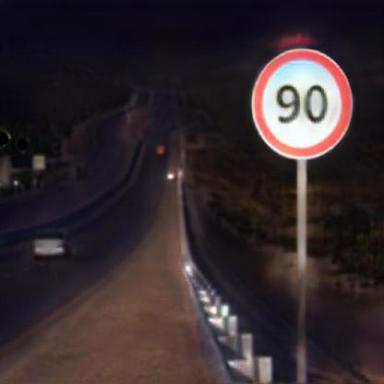Speed_limit_90: (252, 50, 354, 156)
